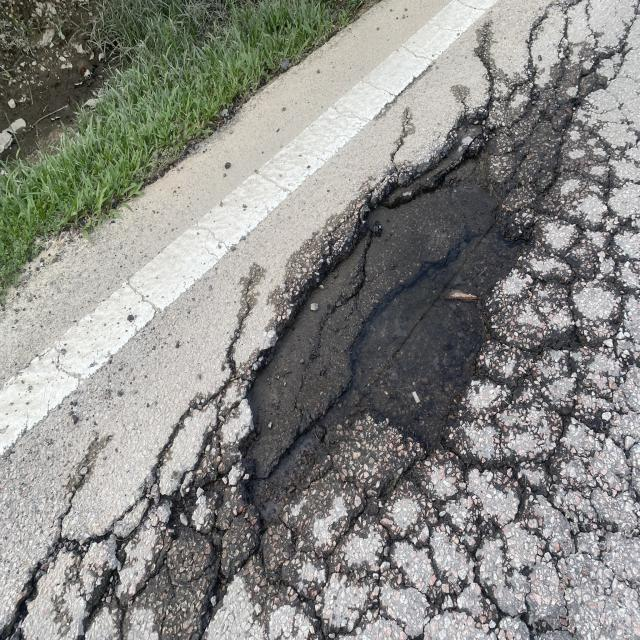pothole: (378, 26, 602, 488)
